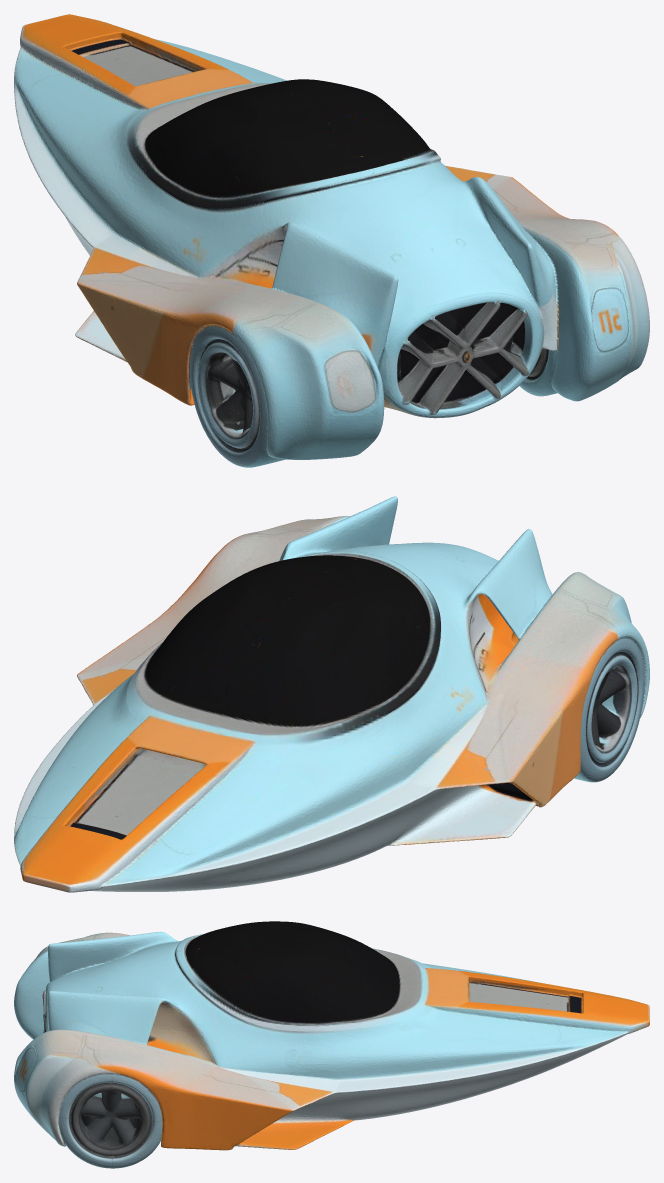
Rendered from aero_xl.glb.
The picture shows the model from 3 angles, top to bottom: view 1: azimuth 30°, elevation 25°; view 2: azimuth 150°, elevation 25°; view 3: azimuth 270°, elevation 25°; orthographic projection. The views are drawn at different scales.
Parts seen in each view (by area): view 1: geometry_0; view 2: geometry_0; view 3: geometry_0.
Part boxes in pixels (x1,y1,x2,y2): geometry_0: (14,14,649,467); geometry_0: (14,496,649,892); geometry_0: (14,921,649,1168).
Bounding box in the file's own units: 5.13 × 2.56 × 9.
1 material, 1 textured.
